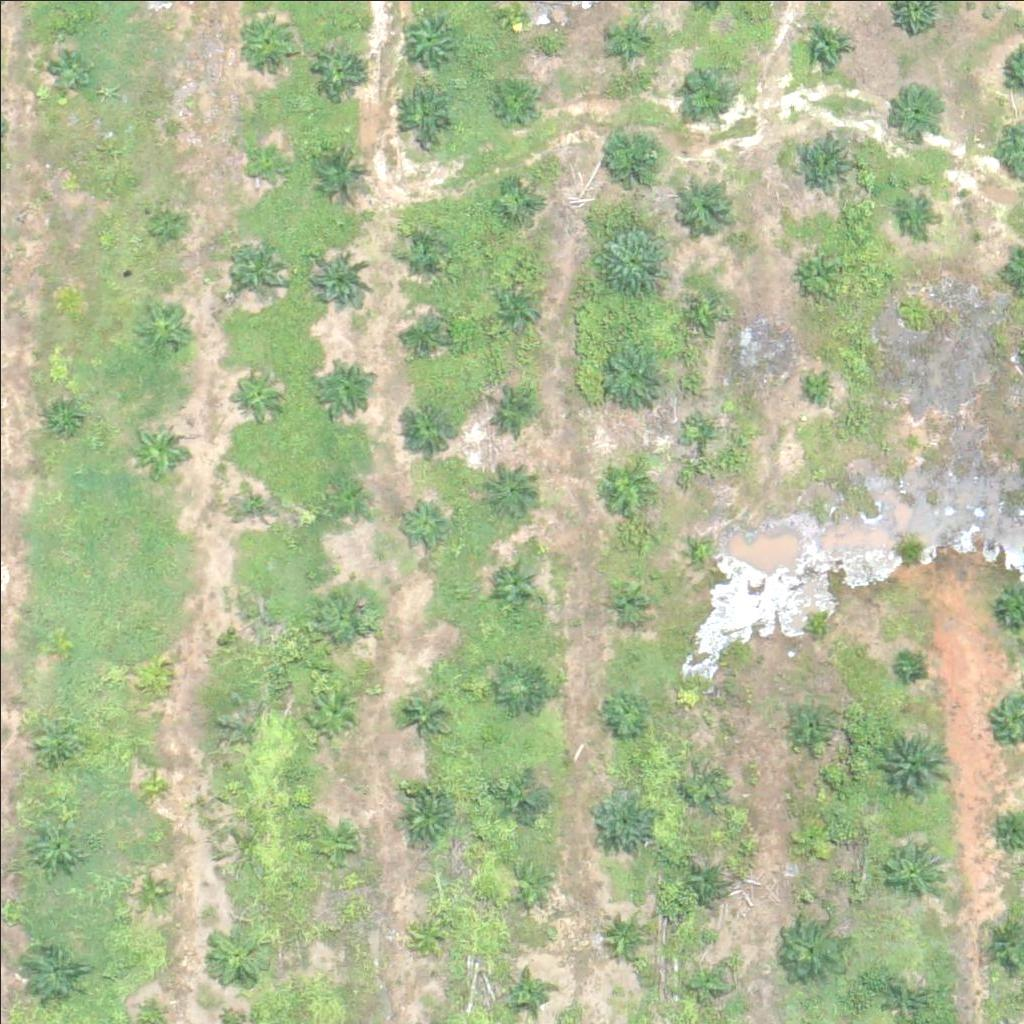Kelapa_Sawit: (597, 337, 672, 413), (593, 119, 668, 195), (593, 223, 668, 299), (876, 725, 951, 801), (676, 177, 739, 240), (134, 295, 197, 358), (391, 81, 454, 144), (791, 131, 854, 194), (475, 457, 538, 520), (317, 586, 380, 649), (18, 941, 81, 1004), (127, 418, 190, 481), (588, 788, 651, 851), (22, 811, 85, 874), (673, 953, 736, 1016), (396, 388, 459, 451), (313, 350, 375, 413), (312, 137, 374, 200), (225, 236, 287, 299), (309, 253, 371, 316), (781, 915, 843, 978), (881, 836, 943, 899), (394, 784, 456, 847), (300, 683, 362, 746), (204, 923, 266, 986), (395, 3, 457, 65), (231, 369, 281, 420), (890, 84, 940, 135), (802, 19, 852, 70), (494, 661, 544, 712), (496, 779, 546, 830), (676, 857, 726, 908), (600, 914, 650, 965), (675, 763, 725, 814), (787, 817, 837, 868), (599, 690, 649, 741), (401, 690, 451, 741), (227, 475, 277, 526), (315, 477, 365, 528), (397, 500, 447, 551), (489, 558, 539, 609), (678, 65, 728, 115), (492, 82, 542, 132), (493, 178, 543, 228), (311, 47, 361, 97), (241, 15, 291, 65), (600, 457, 650, 507), (32, 723, 82, 773), (306, 820, 356, 870), (503, 860, 553, 910), (781, 697, 831, 747), (399, 312, 449, 362), (397, 228, 447, 278), (491, 292, 541, 342), (486, 387, 536, 437), (604, 574, 654, 624), (612, 21, 650, 59), (899, 191, 937, 229), (133, 872, 171, 910), (131, 765, 169, 803), (135, 665, 173, 703), (409, 918, 447, 956), (506, 973, 544, 1011), (44, 394, 82, 432), (248, 142, 286, 180), (795, 248, 832, 286), (312, 911, 349, 949), (229, 613, 266, 651), (146, 206, 183, 243), (51, 56, 88, 93), (897, 652, 922, 678), (685, 296, 710, 322), (692, 542, 717, 567), (687, 414, 712, 439), (804, 371, 829, 396), (804, 615, 829, 640), (504, 6, 529, 31), (996, 817, 1021, 842), (898, 426, 923, 451)
